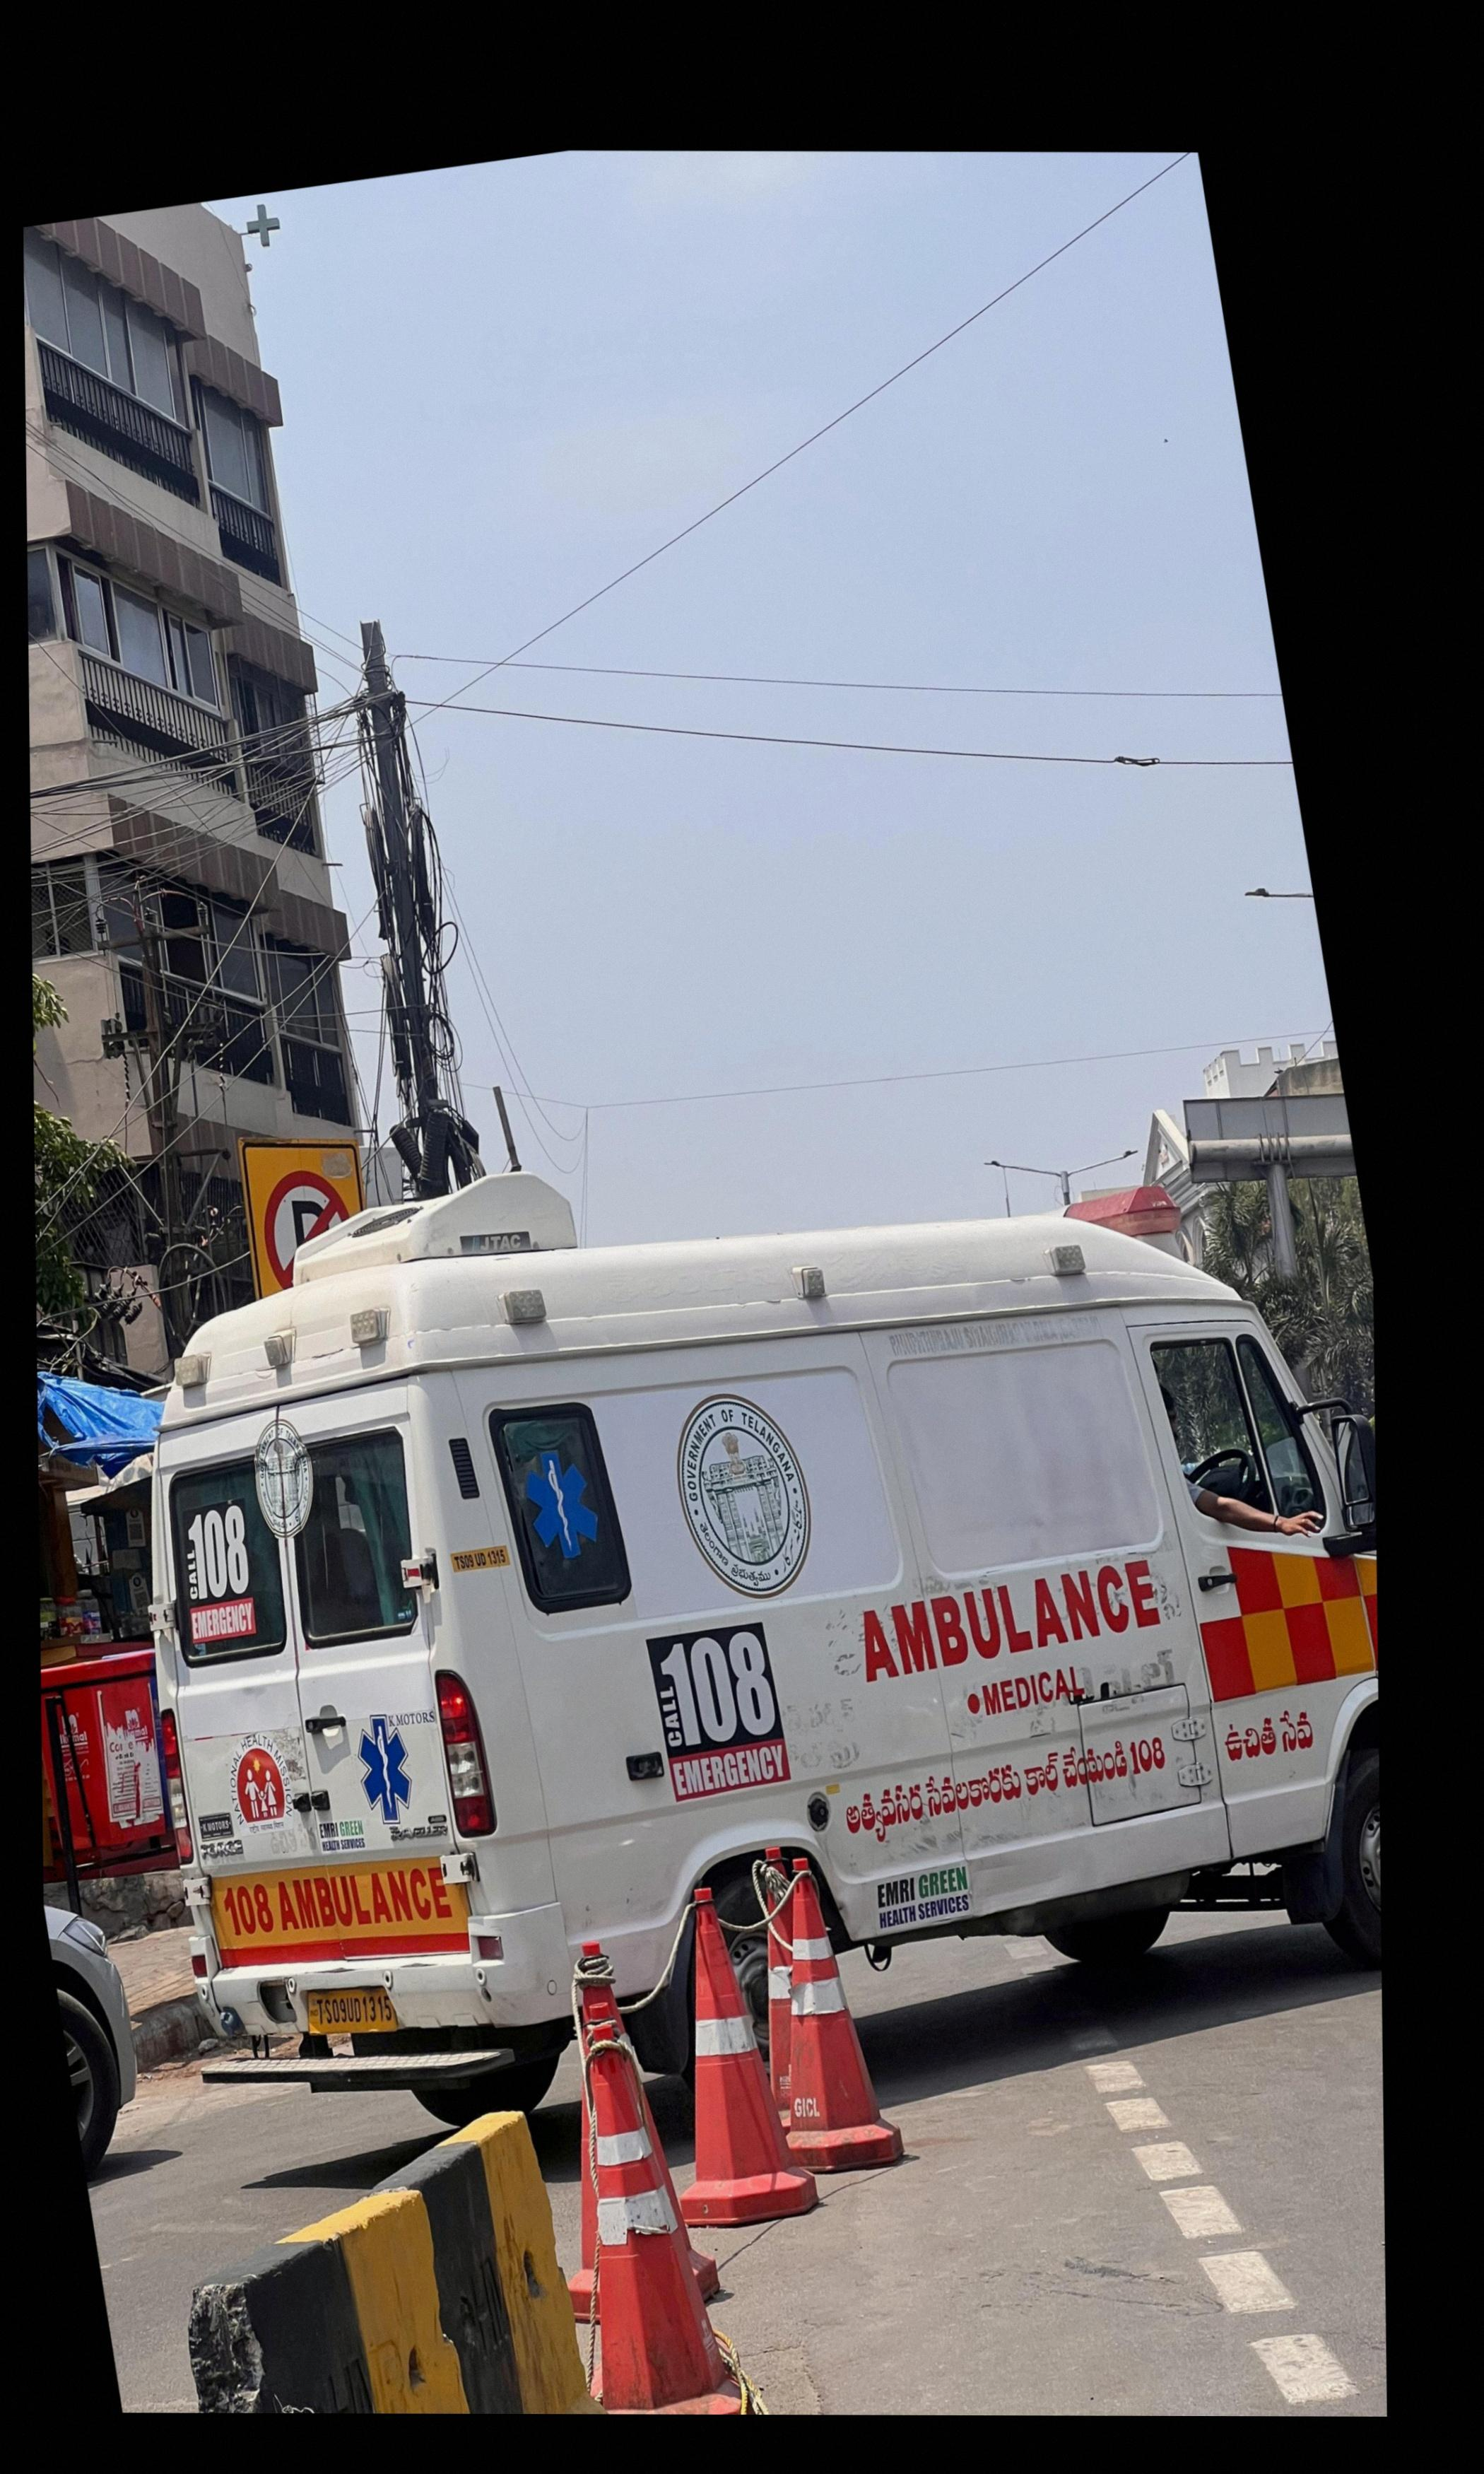ambulance: (46, 1180, 1376, 2075)
